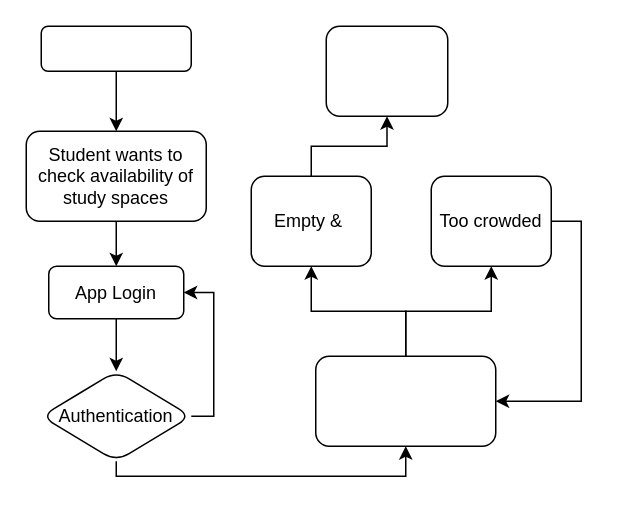
Some shapes in this 620 by 515 pixel diagram are drawn without their labels. Each missing label, with the box of its shape:
Go to the floor: (325, 25, 448, 116)
Start: (40, 25, 191, 71)
Student chooses the floor to check availability: (314, 355, 496, 446)
